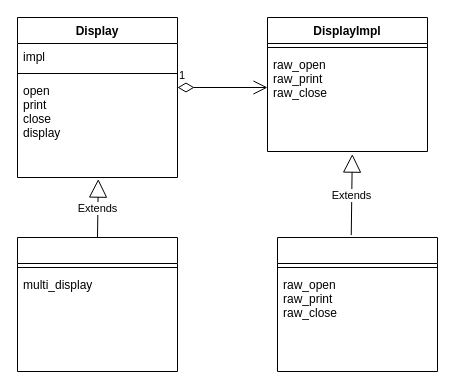
This 455x392 diagram has some shape labels left out. The box of each missing label's shape, as (x1, y1, x2, y2) in pixels:
CountDisplay: (16, 236, 178, 372)
StringDisplayImpl: (276, 236, 438, 372)
